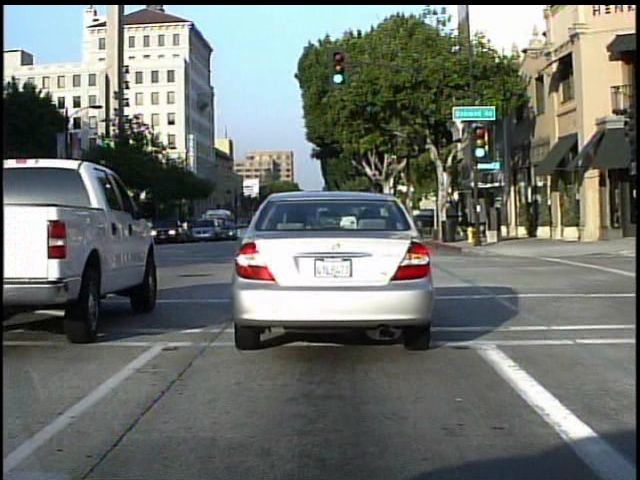person: (89, 206, 118, 253)
